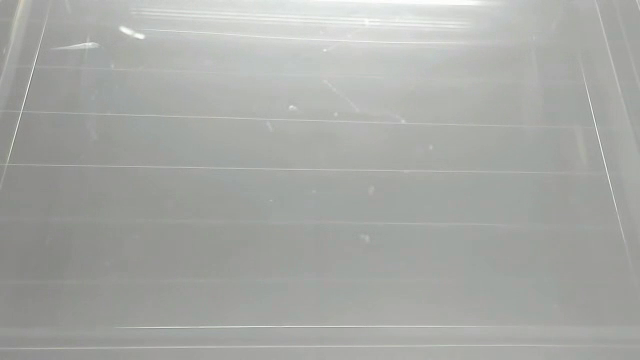alpha: (49, 40, 102, 55), (114, 23, 149, 44)
